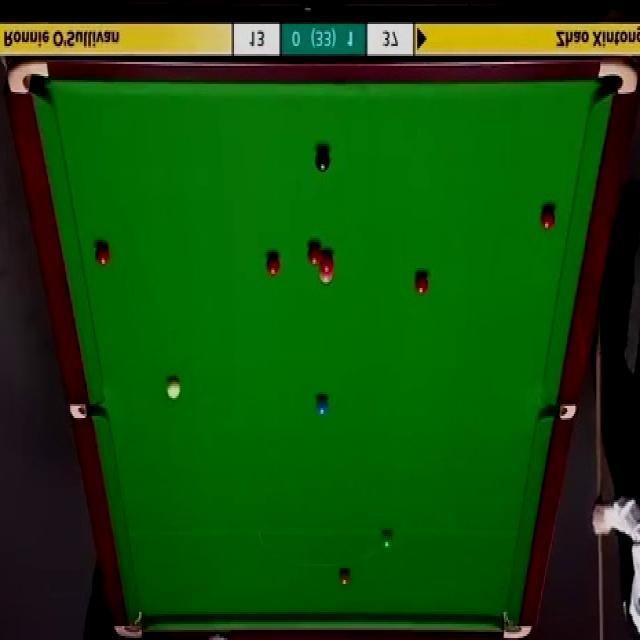black-ball: (315, 148, 331, 174)
blue-ball: (315, 396, 330, 418)
brown-ball: (338, 568, 351, 588)
green-ball: (380, 530, 393, 551)
pink-ball: (318, 270, 334, 284)
red-ball: (95, 242, 111, 268), (540, 207, 557, 229), (318, 252, 335, 273), (265, 254, 280, 276), (414, 272, 428, 295), (308, 244, 322, 264)
white-ball: (166, 376, 183, 402)
